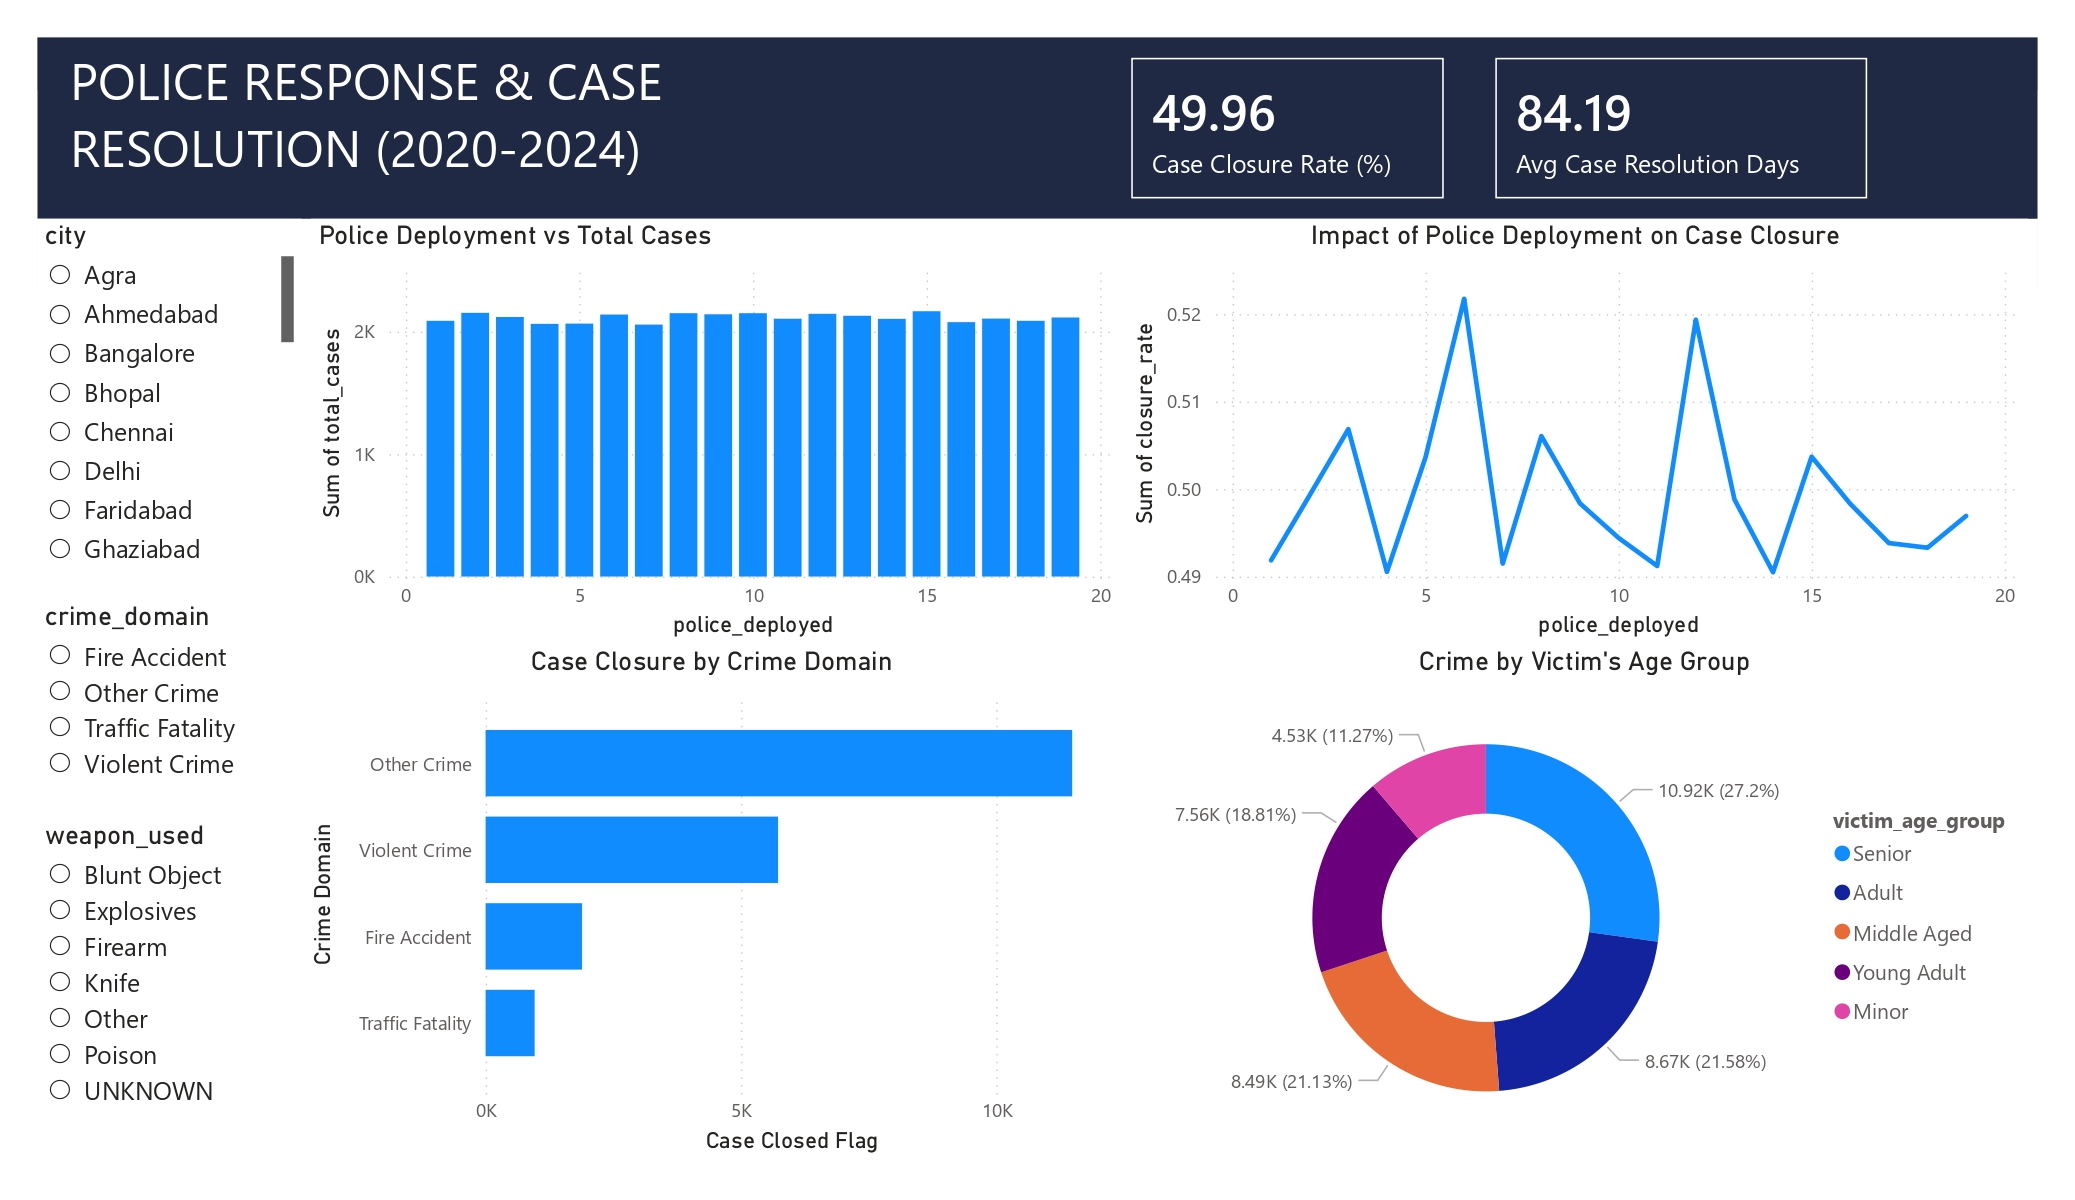

This screenshot's page, from the dashboard's own definition file:
{"tool":"powerbi","page":{"name":"Police Response & Crime Resolution (2020-2024)","canvas":[1280,720],"ordinal":2},"visuals":[{"type":"shape","box":[0,0,1280,115.7],"z":0},{"type":"listSlicer","fields":{"Values":["normalized_crime_reports_2020_2024.city"]},"box":[0,115.7,168.6,231.4],"z":1000},{"type":"lineChart","title":"Impact of Police Deployment on Case Closure","fields":{"Category":["Police_Response_Effectiveness_2020_2024.police_deployed"],"Y":["Sum(Police_Response_Effectiveness_2020_2024.closure_rate)"]},"box":[695,116.2,578.8,272.5],"z":2000},{"type":"listSlicer","fields":{"Values":["normalized_crime_reports_2020_2024.crime_domain"]},"box":[0,360,168.6,220],"z":3000},{"type":"barChart","title":"Case Closure by Crime Domain","fields":{"Y":["Sum(normalized_crime_reports_2020_2024.case_closed_flag)"],"Category":["normalized_crime_reports_2020_2024.crime_domain"]},"box":[168.6,388.6,525.7,330],"z":4000},{"type":"cardVisual","fields":{"Data":["normalized_crime_reports_2020_2024.Case Closure Rate (%)"]},"box":[695,7.5,210,100],"z":5000},{"type":"textbox","box":[15.7,0,498.6,115.7],"z":6000},{"type":"cardVisual","fields":{"Data":["normalized_crime_reports_2020_2024.Avg Case Resolution Days"]},"box":[927.5,7.5,248.8,100],"z":7000},{"type":"clusteredColumnChart","title":"Police Deployment vs Total Cases","fields":{"Category":["Police_Response_Effectiveness_2020_2024.police_deployed"],"Y":["Sum(Police_Response_Effectiveness_2020_2024.total_cases)"]},"box":[175,116.2,520,272.5],"z":8000},{"type":"donutChart","title":"Crime by Victim''s Age Group","fields":{"Category":["normalized_crime_reports_2020_2024.victim_age_group"],"Y":["CountNonNull(normalized_crime_reports_2020_2024.report_number)"]},"box":[700,388.6,580,330],"z":9000},{"type":"listSlicer","fields":{"Values":["normalized_crime_reports_2020_2024.weapon_used"]},"box":[0,500,168.6,220],"z":10000}]}

Visuals, with their boxes on the page's 1280x720 design canvas (x1, y1, x2, y2). These are canvas units, not pixel positions in the 2075x1200 screenshot, which may show the page scaled, cropped or inside an application window:
shape: <box>0,0,1280,116</box>
listSlicer - normalized_crime_reports_2020_2024.city: <box>0,116,169,347</box>
"Impact of Police Deployment on Case Closure" lineChart: <box>695,116,1274,389</box>
listSlicer - normalized_crime_reports_2020_2024.crime_domain: <box>0,360,169,580</box>
"Case Closure by Crime Domain" barChart: <box>169,389,694,719</box>
cardVisual - normalized_crime_reports_2020_2024.Case Closure Rate (%): <box>695,8,905,108</box>
textbox: <box>16,0,514,116</box>
cardVisual - normalized_crime_reports_2020_2024.Avg Case Resolution Days: <box>928,8,1176,108</box>
"Police Deployment vs Total Cases" clusteredColumnChart: <box>175,116,695,389</box>
"Crime by Victim''s Age Group" donutChart: <box>700,389,1280,719</box>
listSlicer - normalized_crime_reports_2020_2024.weapon_used: <box>0,500,169,720</box>
